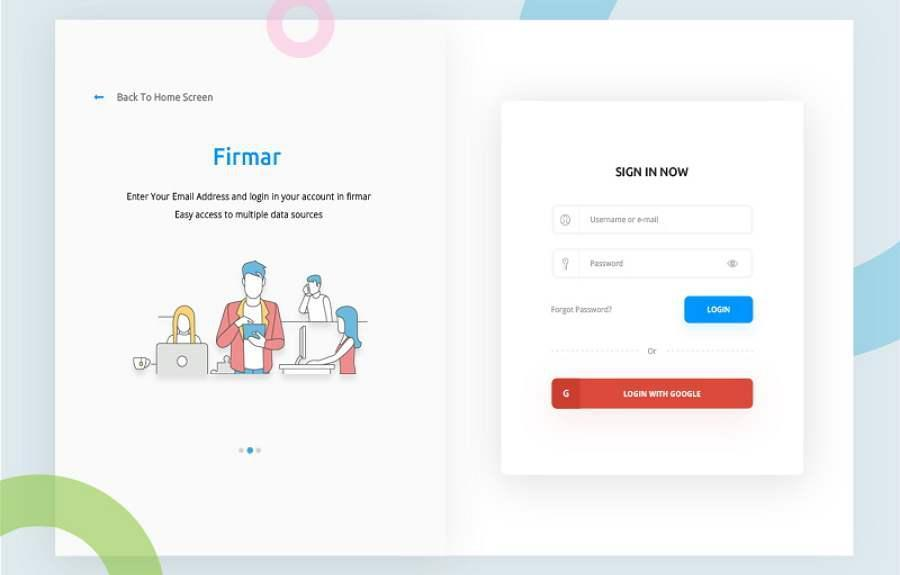button: (553, 379, 755, 412), (686, 296, 754, 323)
icon: (557, 211, 577, 234), (556, 254, 577, 274)
input: (581, 203, 756, 239), (581, 251, 756, 283)
label: (613, 165, 695, 184)
